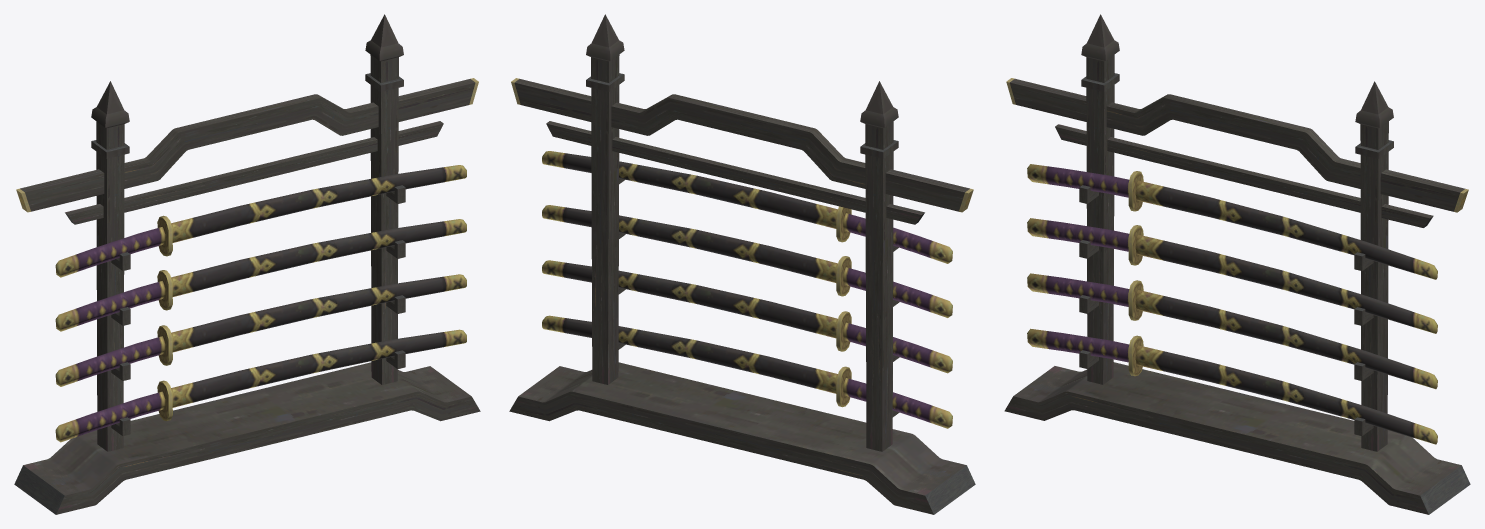
Rendered from Homeworld_Interior_Dq_Decoration_ToolcarrierTS_01_Lod0.fbx.
The picture shows the model from 3 angles, left to right: view 1: azimuth 30°, elevation 25°; view 2: azimuth 150°, elevation 25°; view 3: azimuth 330°, elevation 25°; orthographic projection.
Visible parts, largest first — view 1: Area_Dq_Prop_MS_ToolcarrierTS_01_Lod0; view 2: Area_Dq_Prop_MS_ToolcarrierTS_01_Lod0; view 3: Area_Dq_Prop_MS_ToolcarrierTS_01_Lod0.
Boxes of the visible parts, left/top/right/bottom form: Area_Dq_Prop_MS_ToolcarrierTS_01_Lod0: left=14, top=14, right=480, bottom=514; Area_Dq_Prop_MS_ToolcarrierTS_01_Lod0: left=509, top=14, right=975, bottom=514; Area_Dq_Prop_MS_ToolcarrierTS_01_Lod0: left=1004, top=14, right=1470, bottom=514.
Size of the model in its own units: 1.81 by 1.51 by 0.2854.
Materials: 1 (1 with a texture image).
